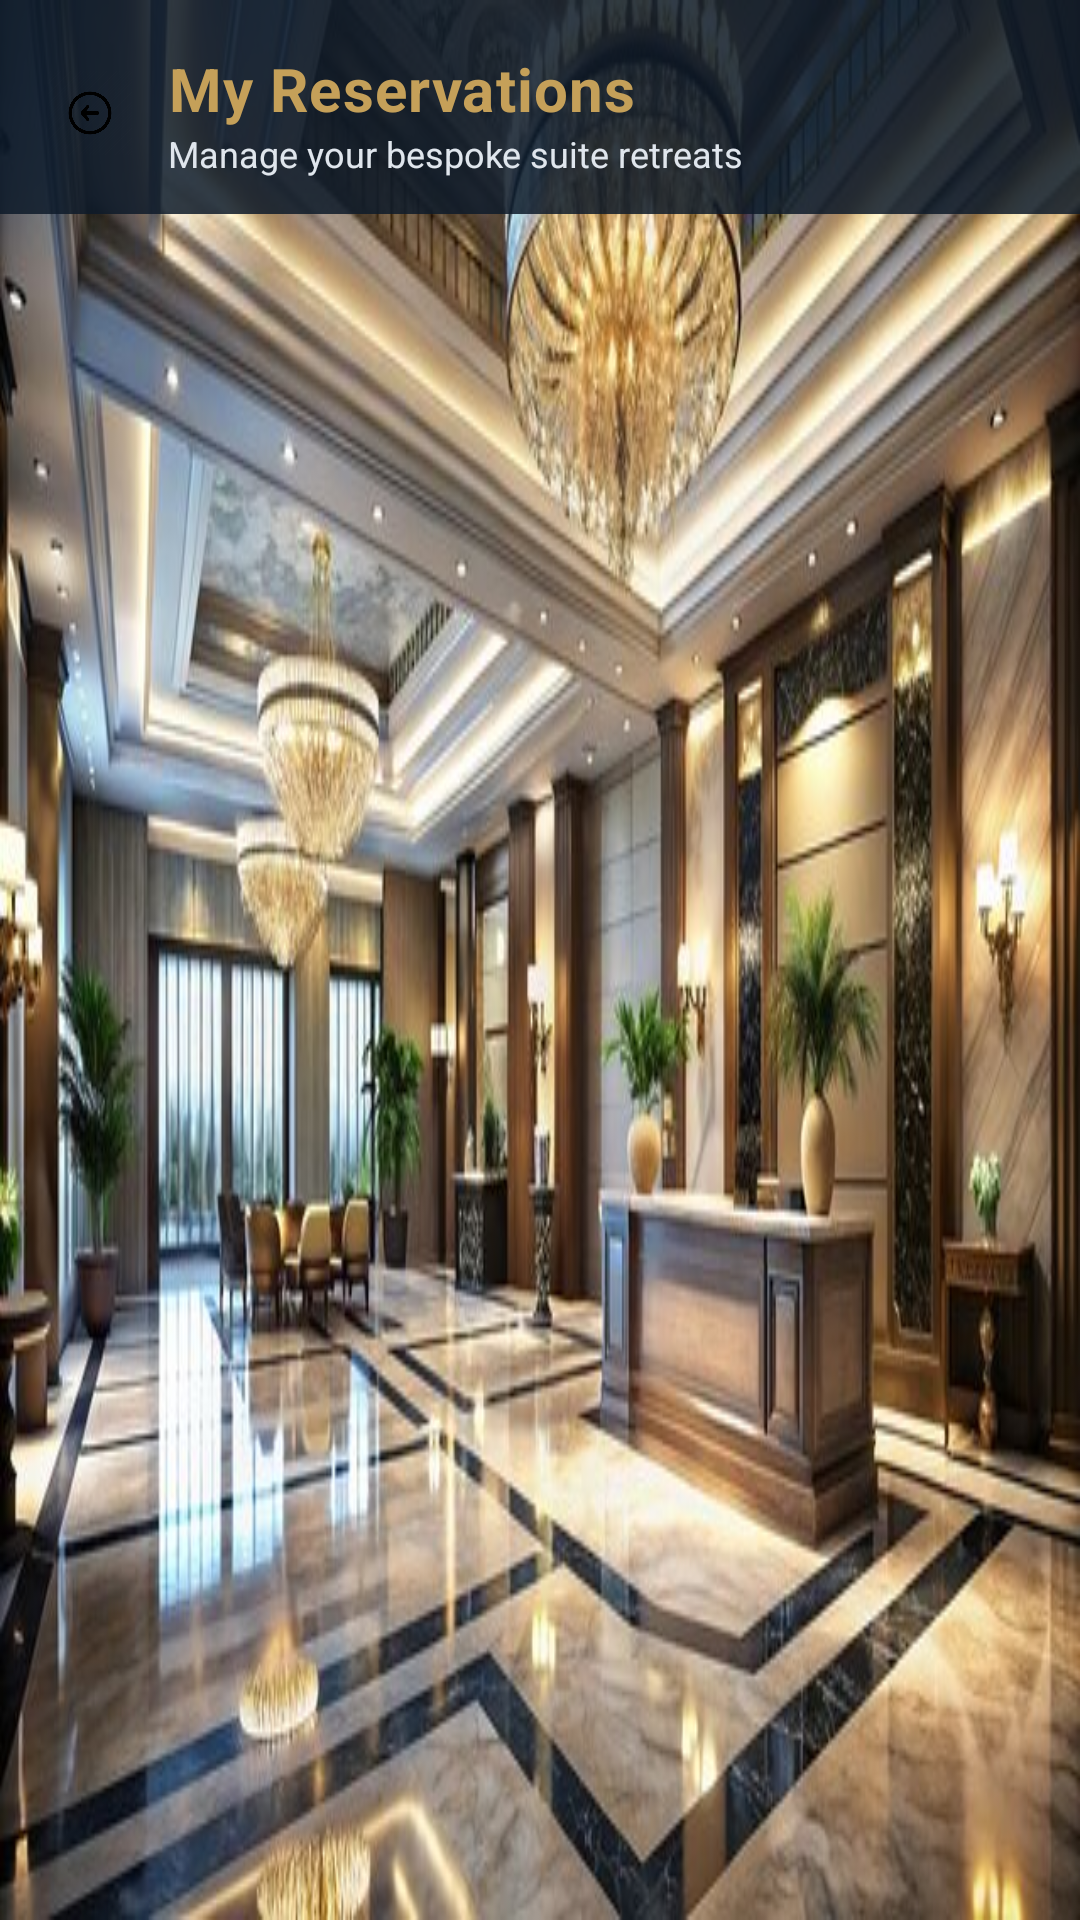

Point at icon controls on the screen. Image size 1080×1920, points as [x,y].
Back: [90,113]
